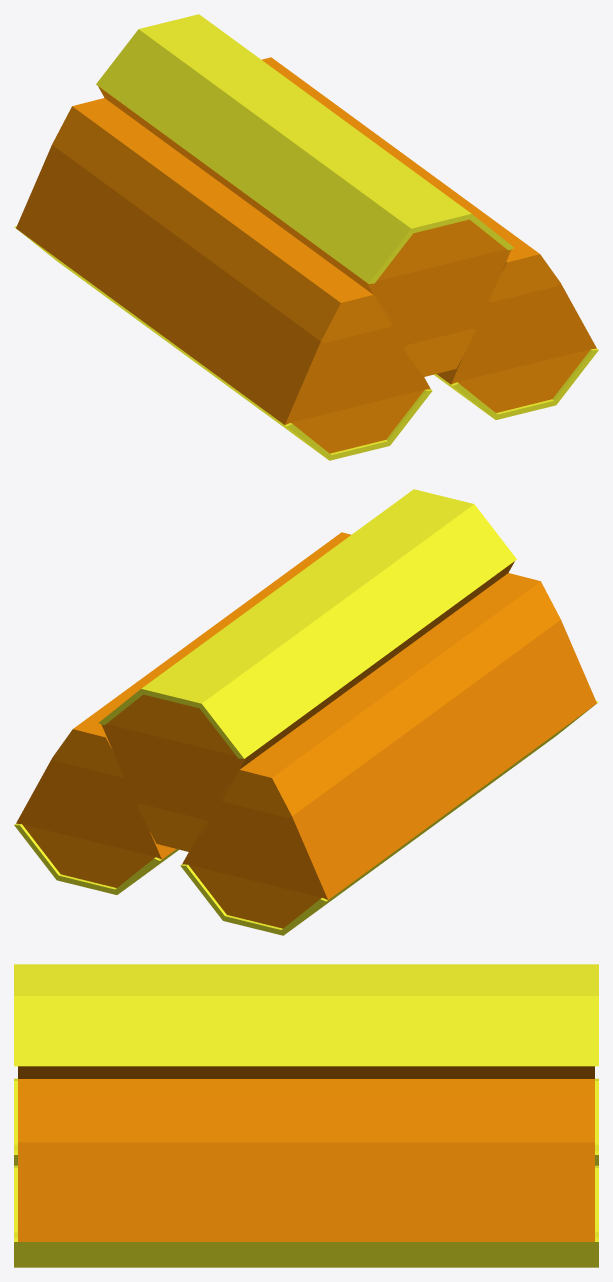
Rendered from Small Log_22.fbx.
The picture shows the model from 3 angles, top to bottom: view 1: azimuth 30°, elevation 25°; view 2: azimuth 150°, elevation 25°; view 3: azimuth 270°, elevation 25°; orthographic projection. The views are drawn at different scales.
Parts seen in each view (by area): view 1: Circle.391; view 2: Circle.391; view 3: Circle.391.
Part boxes in pixels (bbox=[...]): Circle.391: bbox=[14, 14, 598, 460]; Circle.391: bbox=[14, 489, 598, 935]; Circle.391: bbox=[14, 964, 598, 1267].
Size of the model in its own units: 15.71 by 10.21 by 23.76.
